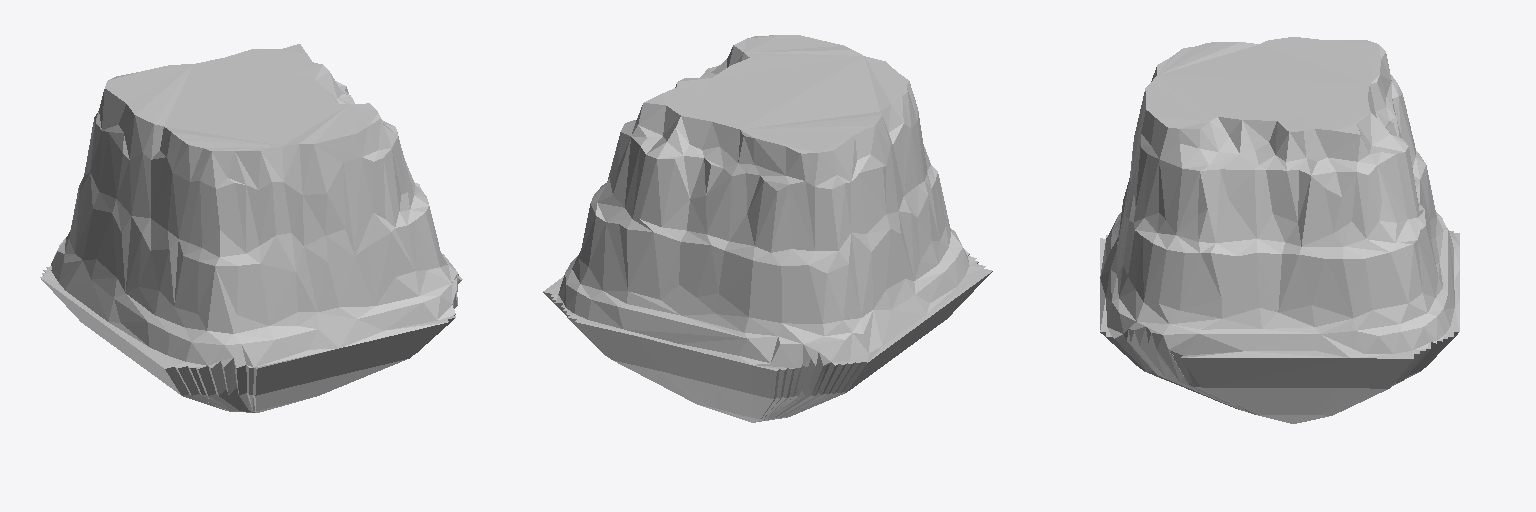
Rendered from Ice01.obj.
3 views of the same model, side by side, from view 1: azimuth 30°, elevation 25°; view 2: azimuth 150°, elevation 25°; view 3: azimuth 270°, elevation 25° (orthographic).
Parts seen in each view (by area): view 1: RoundIceBerg.001_Landscape.005; view 2: RoundIceBerg.001_Landscape.005; view 3: RoundIceBerg.001_Landscape.005.
Part boxes in pixels (left/top/right/bottom): RoundIceBerg.001_Landscape.005: left=40, top=44, right=462, bottom=412; RoundIceBerg.001_Landscape.005: left=543, top=35, right=992, bottom=422; RoundIceBerg.001_Landscape.005: left=1100, top=37, right=1459, bottom=423.
Bounding box in the file's own units: 4.7 × 4.66 × 4.62.